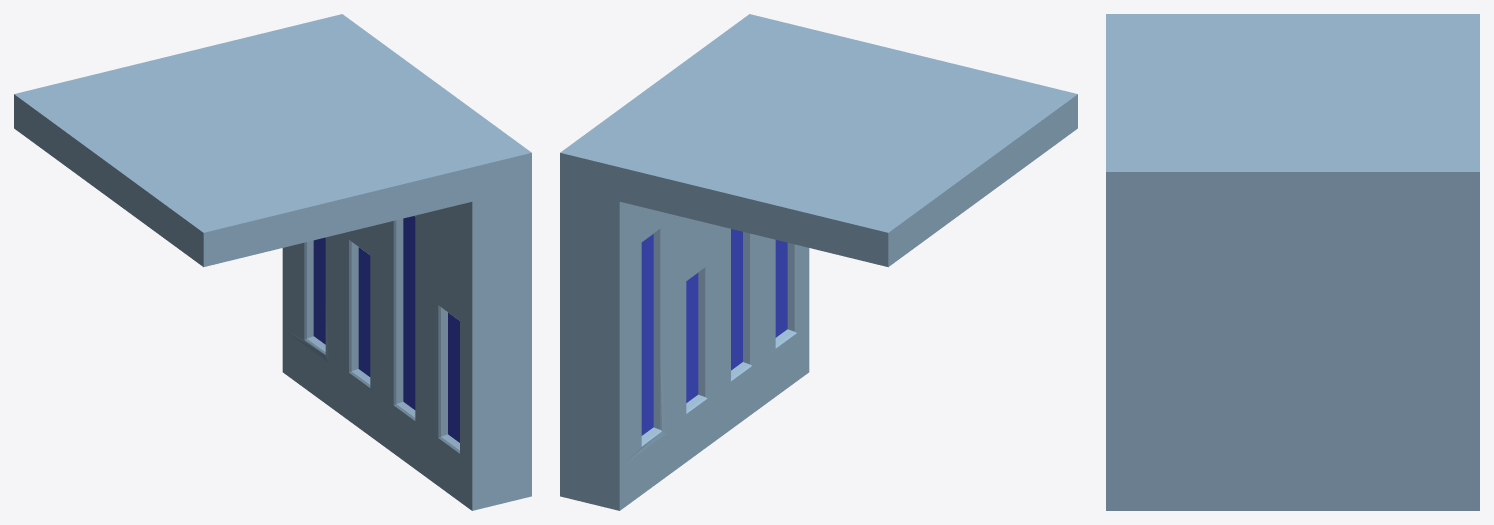
File: EspacioRedSocialParedInteriorAltoNS.gltf
The picture shows the model from 3 angles, left to right: view 1: azimuth 30°, elevation 25°; view 2: azimuth 150°, elevation 25°; view 3: azimuth 270°, elevation 25°; orthographic projection.
Visible parts, largest first — view 1: Cubo.17; view 2: Cubo.17; view 3: Cubo.17.
Part boxes in pixels (<box>): Cubo.17: <box>14,14,531,510</box>; Cubo.17: <box>560,14,1077,510</box>; Cubo.17: <box>1106,14,1479,510</box>.
Bounding box in the file's own units: 2 × 2 × 2.
1 material, 1 textured.
